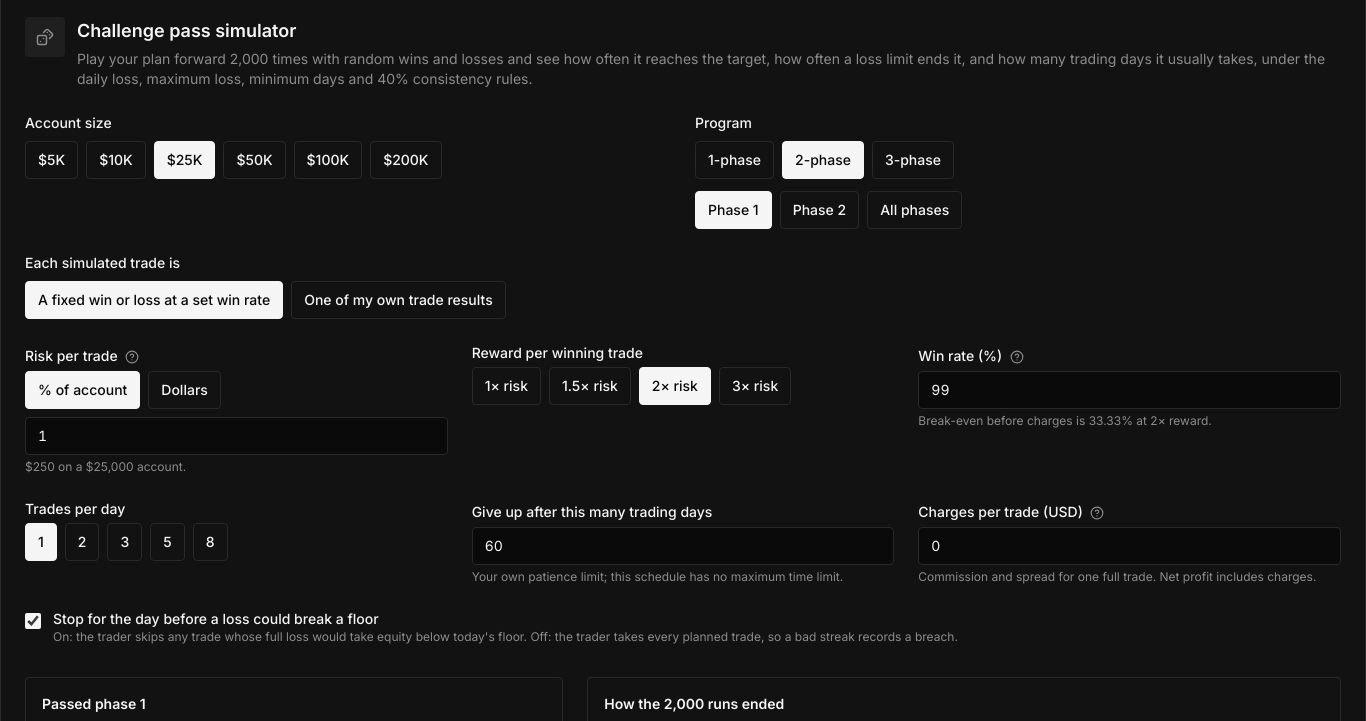
Test: challenge simulator widget › runs the shared plan and reacts to changes
Expected: the heading "Passed phase 1" is shown, [42,695,146,712]
Click the button "All phases". click: (915, 210)
box: [867,191,962,229]
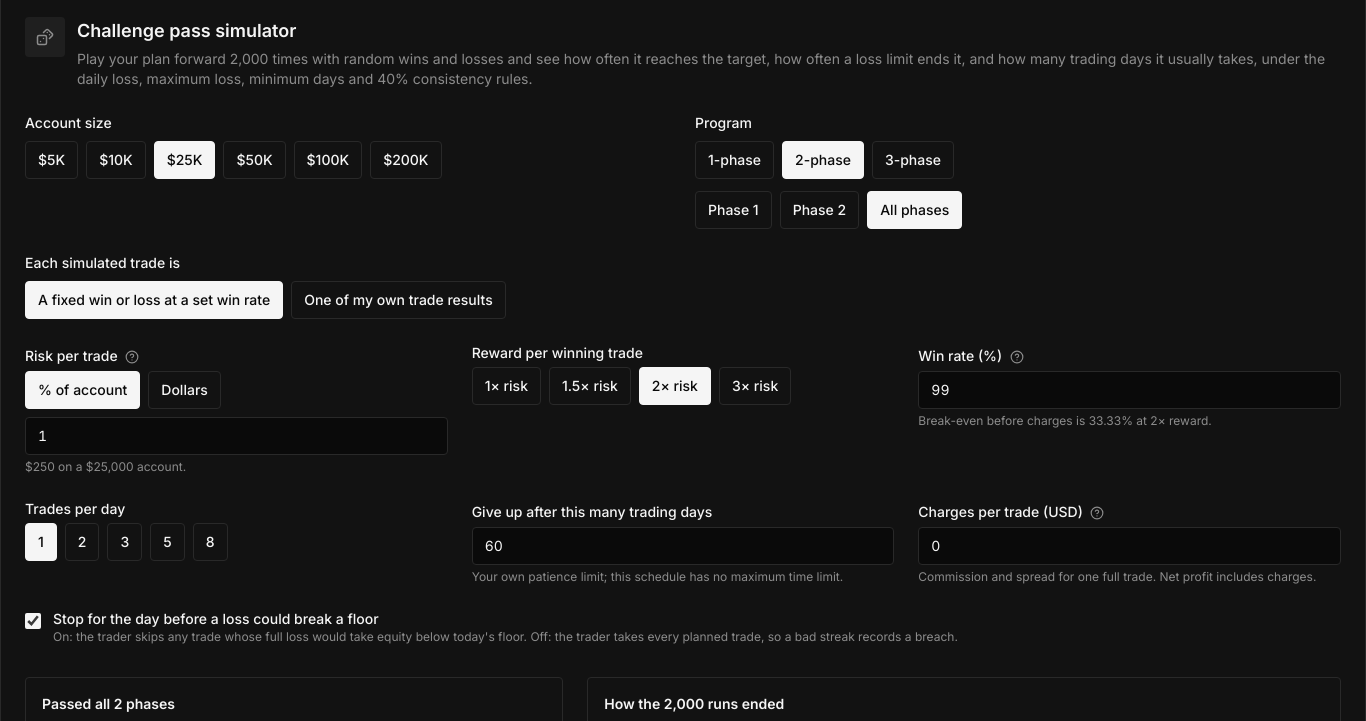
Expected: the heading "Passed all 2 phases" is shown, [42,695,175,712]
Replace the text in the field labelled "Win rate (%)" with "20". click: (1130, 390)
box: [918,371,1341,409]
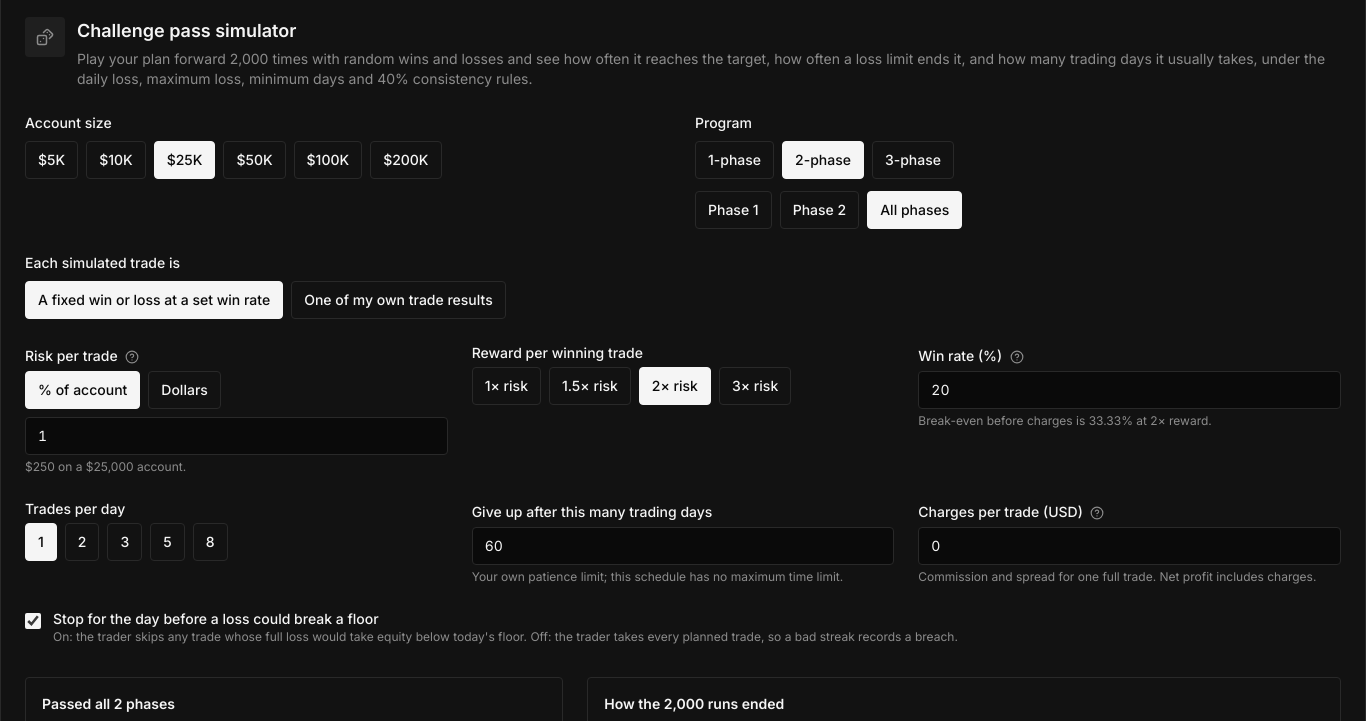
Replace the text in the field labelled "Win rate (%)" with "120". click: (1130, 390)
box: [918,371,1341,409]
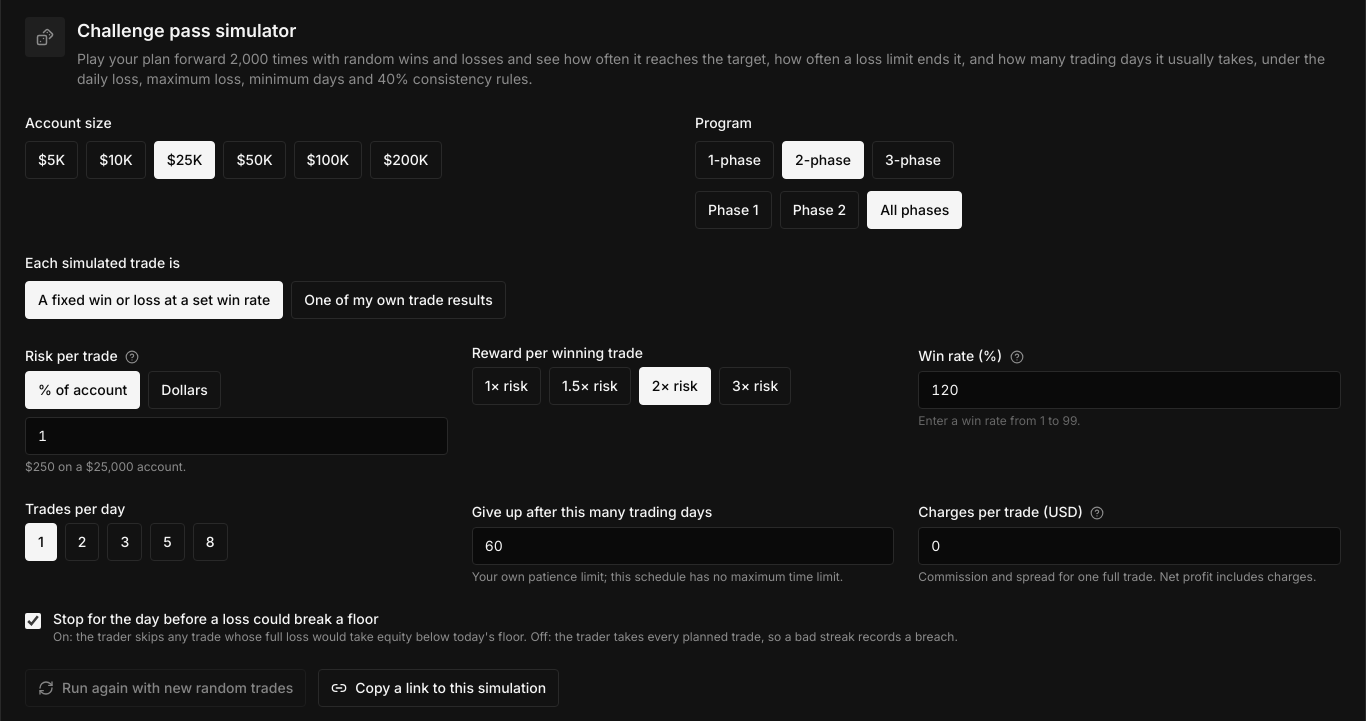
Expected: the text "Enter a win rate from 1 to 99." is shown, [918,413,1081,428]
Replace the text in the field labelled "Win rate (%)" with "50". click: (1130, 390)
box: [918,371,1341,409]
(page scrolled)
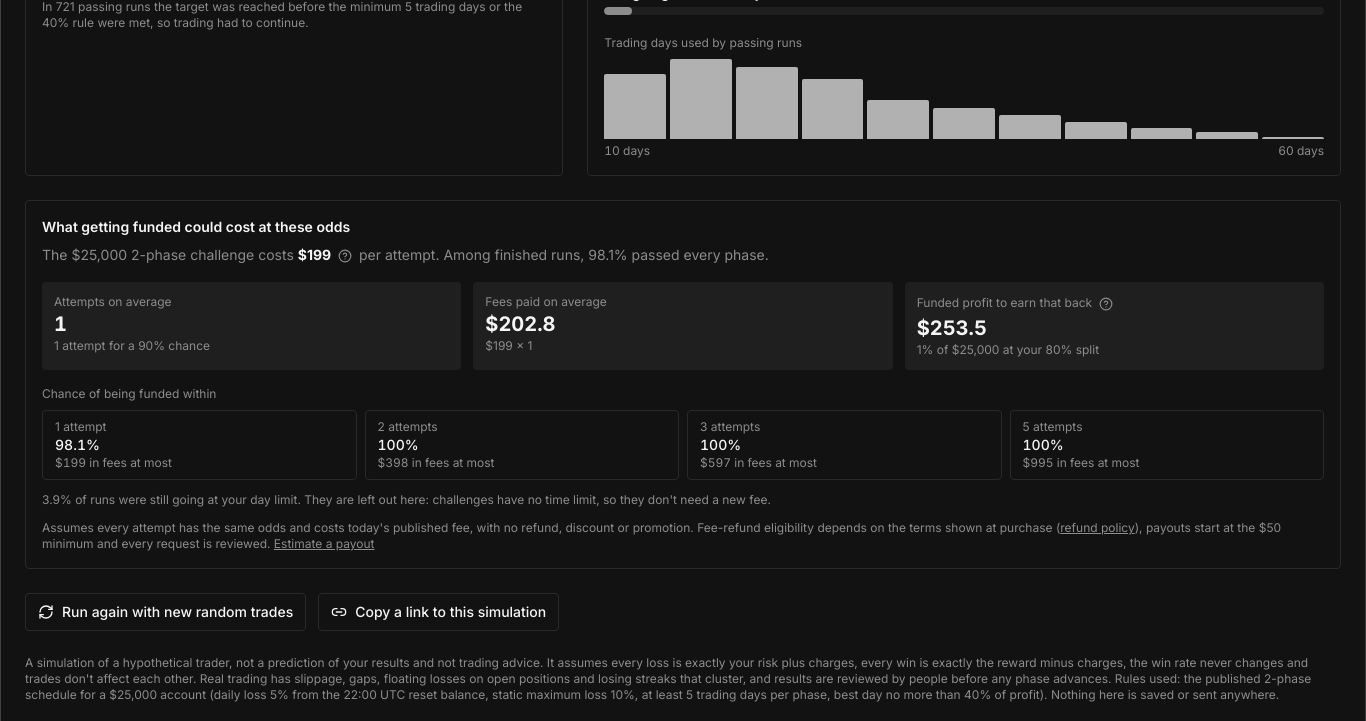
Click the button "Copy a link to this simulation". click: (439, 612)
box: [318,593,559,631]
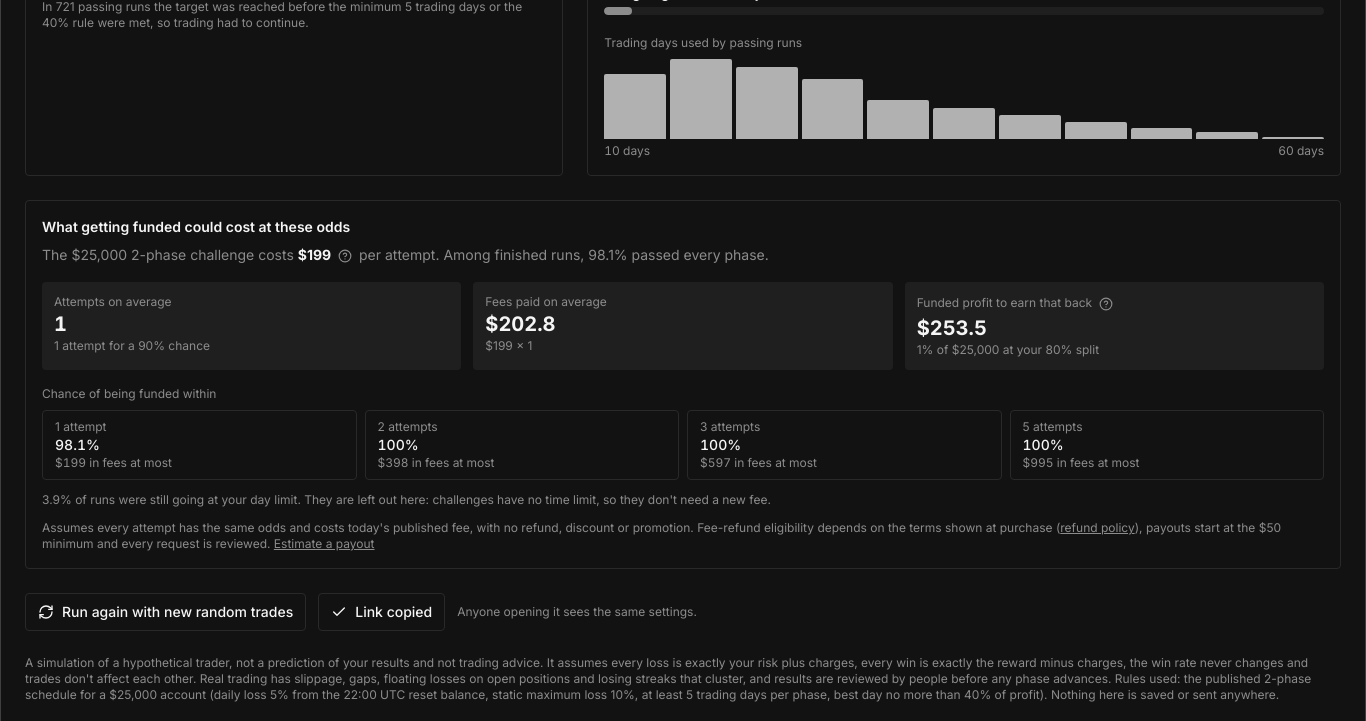
Expected: the button "Link copied" is shown, [318,593,445,631]
